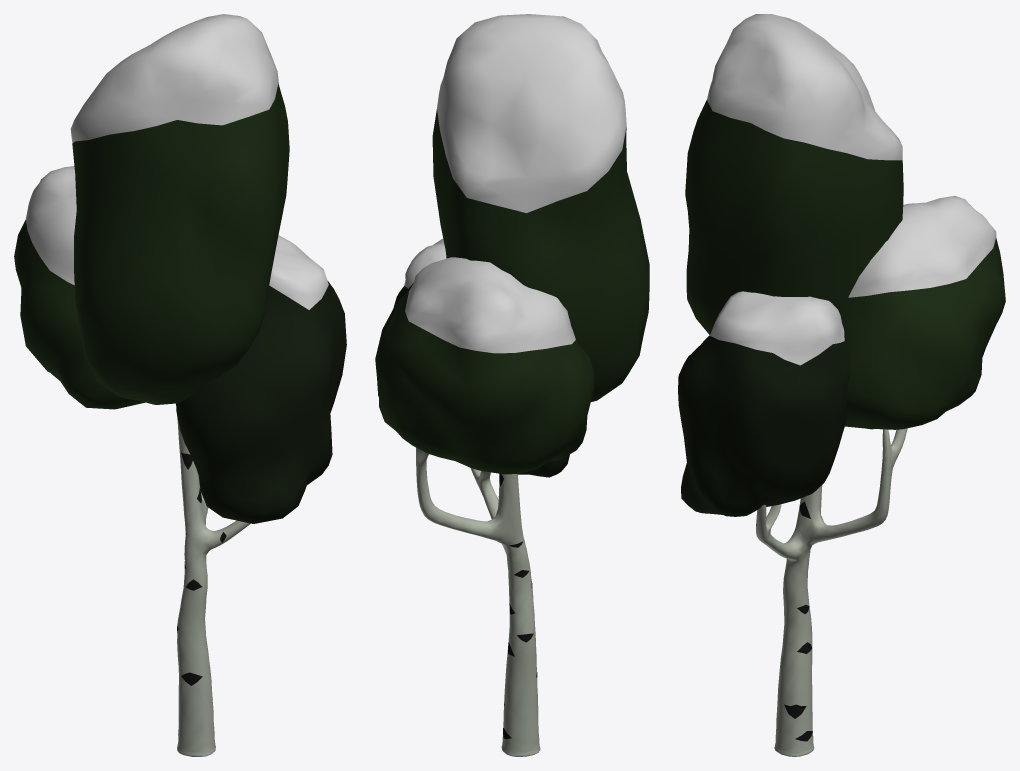
Rendered from BirchTree_Snow_3.fbx.
3 views of the same model, side by side, from view 1: azimuth 30°, elevation 25°; view 2: azimuth 150°, elevation 25°; view 3: azimuth 270°, elevation 25° (orthographic).
Visible parts, largest first — view 1: BirchTree_Snow_3; view 2: BirchTree_Snow_3; view 3: BirchTree_Snow_3.
Boxes of the visible parts, box(x1,y1,x2,y2) form: BirchTree_Snow_3: box(14, 14, 346, 756); BirchTree_Snow_3: box(375, 14, 649, 756); BirchTree_Snow_3: box(678, 14, 1005, 756).
Size of the model in its own units: 257 by 298 by 725.
